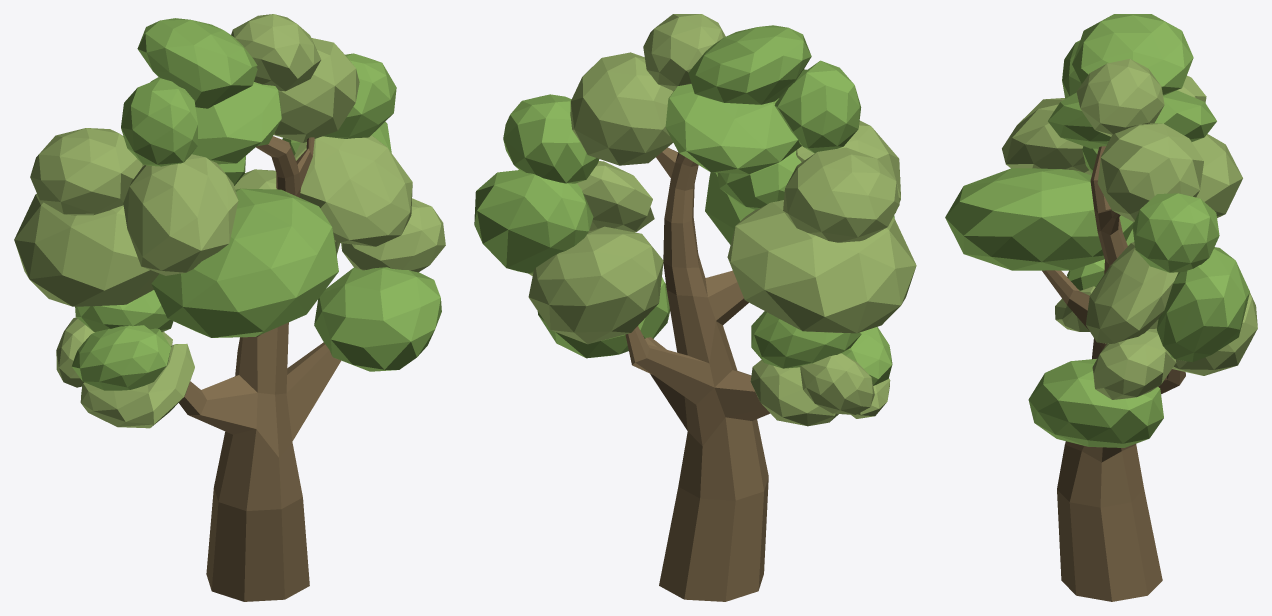
File: Oak_Tree.glb
3 views of the same model, side by side, from view 1: azimuth 30°, elevation 25°; view 2: azimuth 150°, elevation 25°; view 3: azimuth 270°, elevation 25° (orthographic). The views are drawn at different scales.
Visible parts, largest first — view 1: Oak; view 2: Oak; view 3: Oak.
Part boxes in pixels (x1,y1,x2,y2): Oak: (14, 14, 445, 601); Oak: (474, 14, 916, 601); Oak: (945, 14, 1257, 601).
Size of the model in its own units: 3.96 by 5.31 by 2.84.
